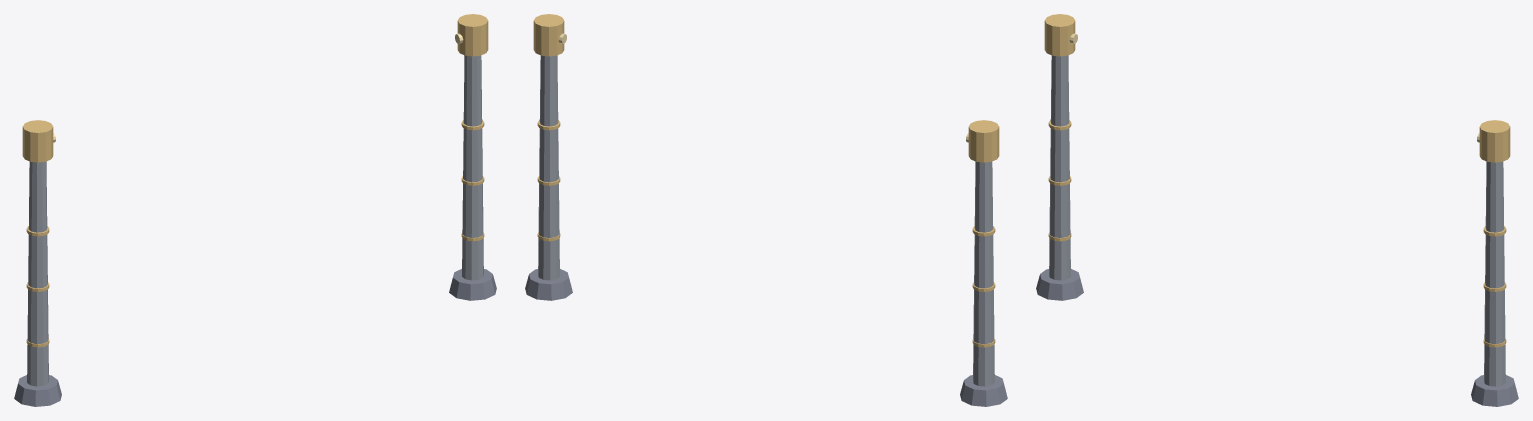
File: RingPylons.obj
3 views of the same model, side by side, from view 1: azimuth 30°, elevation 25°; view 2: azimuth 150°, elevation 25°; view 3: azimuth 330°, elevation 25° (orthographic).
Parts seen in each view (by area): view 1: RingPylons; view 2: RingPylons; view 3: RingPylons.
Boxes of the visible parts, <box> form: RingPylons: <box>14,14,496,406</box>; RingPylons: <box>525,14,1007,406</box>; RingPylons: <box>1036,14,1518,406</box>.
Size of the model in its own units: 26.88 by 14.6 by 2.4.
1 material, 1 textured.
